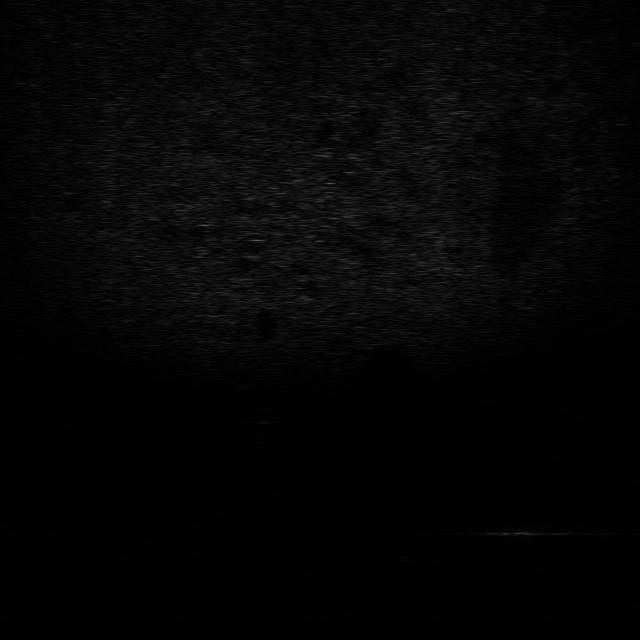ball: (248, 406, 282, 426)
metal bucket: (481, 520, 569, 539)
tyre: (366, 518, 429, 568)
